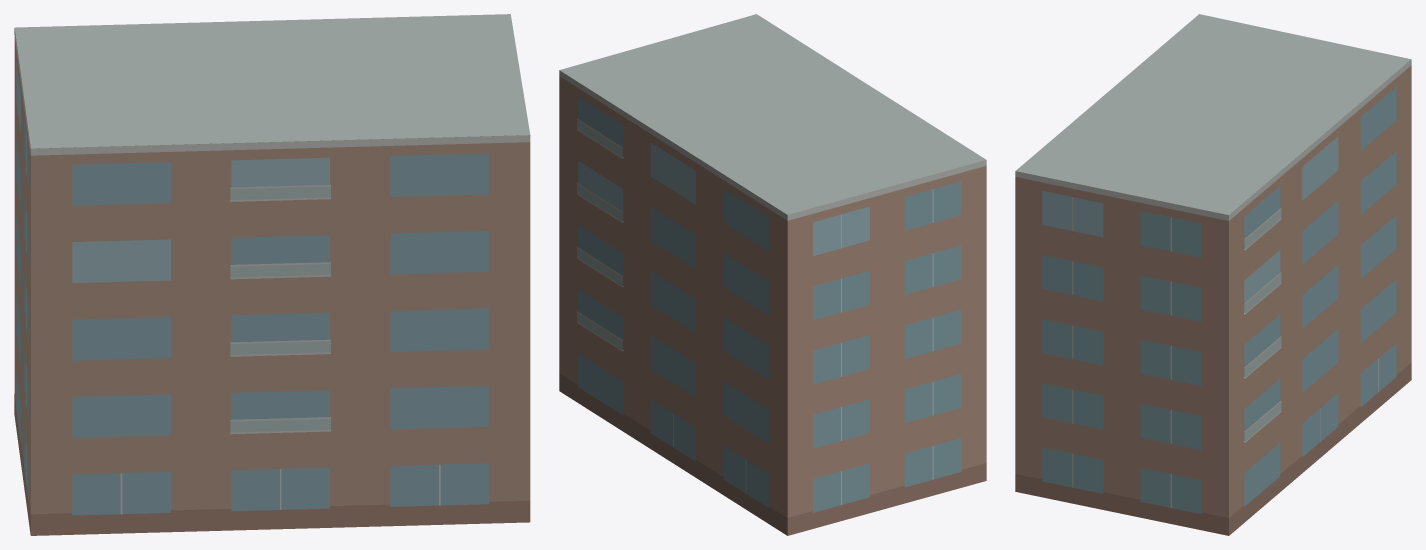
File: survey-upis-32845394.glb
The picture shows the model from 3 angles, left to right: view 1: azimuth 30°, elevation 25°; view 2: azimuth 150°, elevation 25°; view 3: azimuth 270°, elevation 25°; orthographic projection. The views are drawn at different scales.
Parts seen in each view (by area): view 1: survey-upis-32845394.tmp; view 2: survey-upis-32845394.tmp; view 3: survey-upis-32845394.tmp.
Boxes of the visible parts, bbox=[...] form: survey-upis-32845394.tmp: bbox=[14, 14, 530, 535]; survey-upis-32845394.tmp: bbox=[559, 14, 986, 535]; survey-upis-32845394.tmp: bbox=[1015, 14, 1411, 535].
Size of the model in its own units: 18.04 by 13.4 by 15.01.
